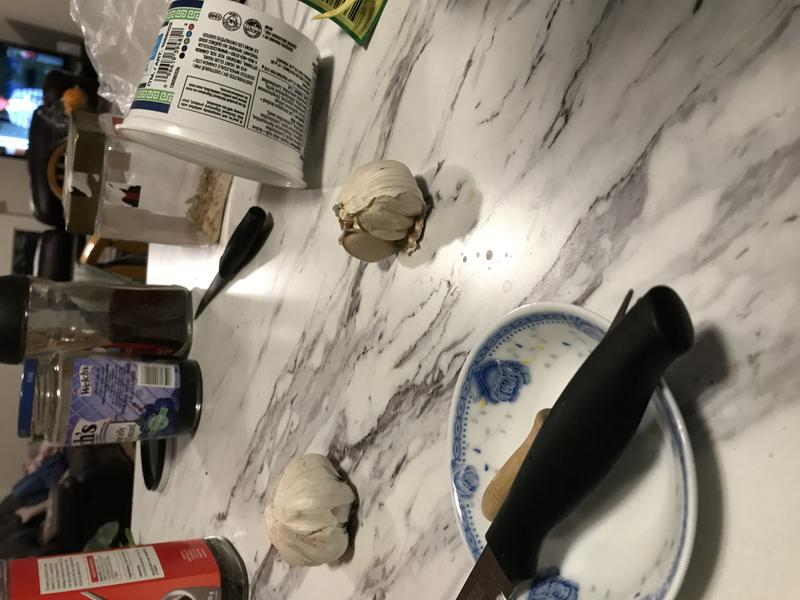garlic: (331, 153, 433, 280), (259, 448, 360, 574)
